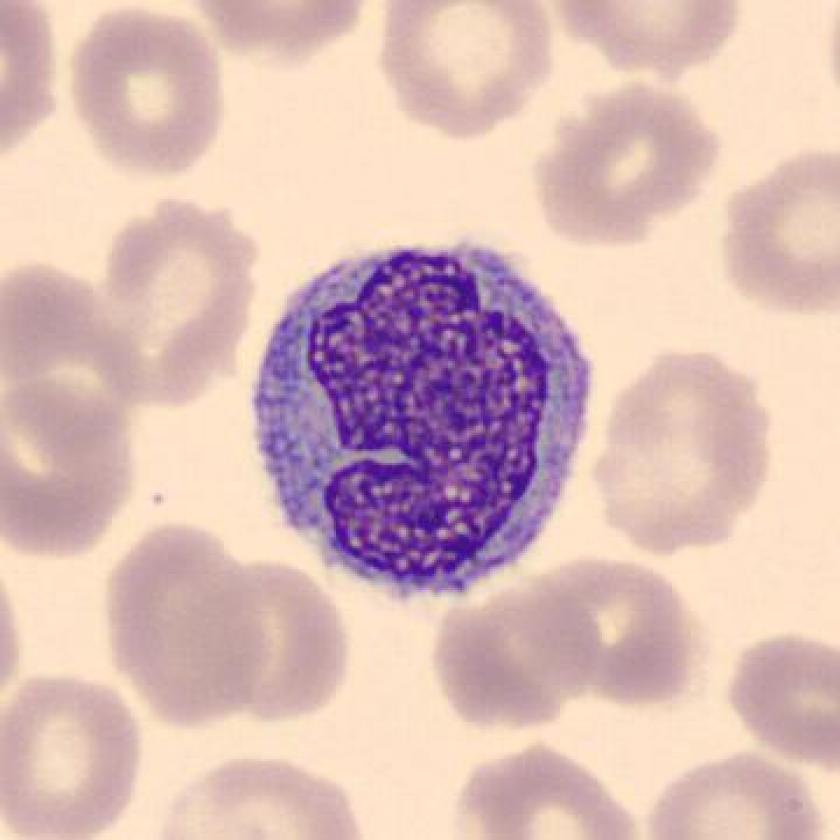monocyte: (232, 221, 610, 621)
